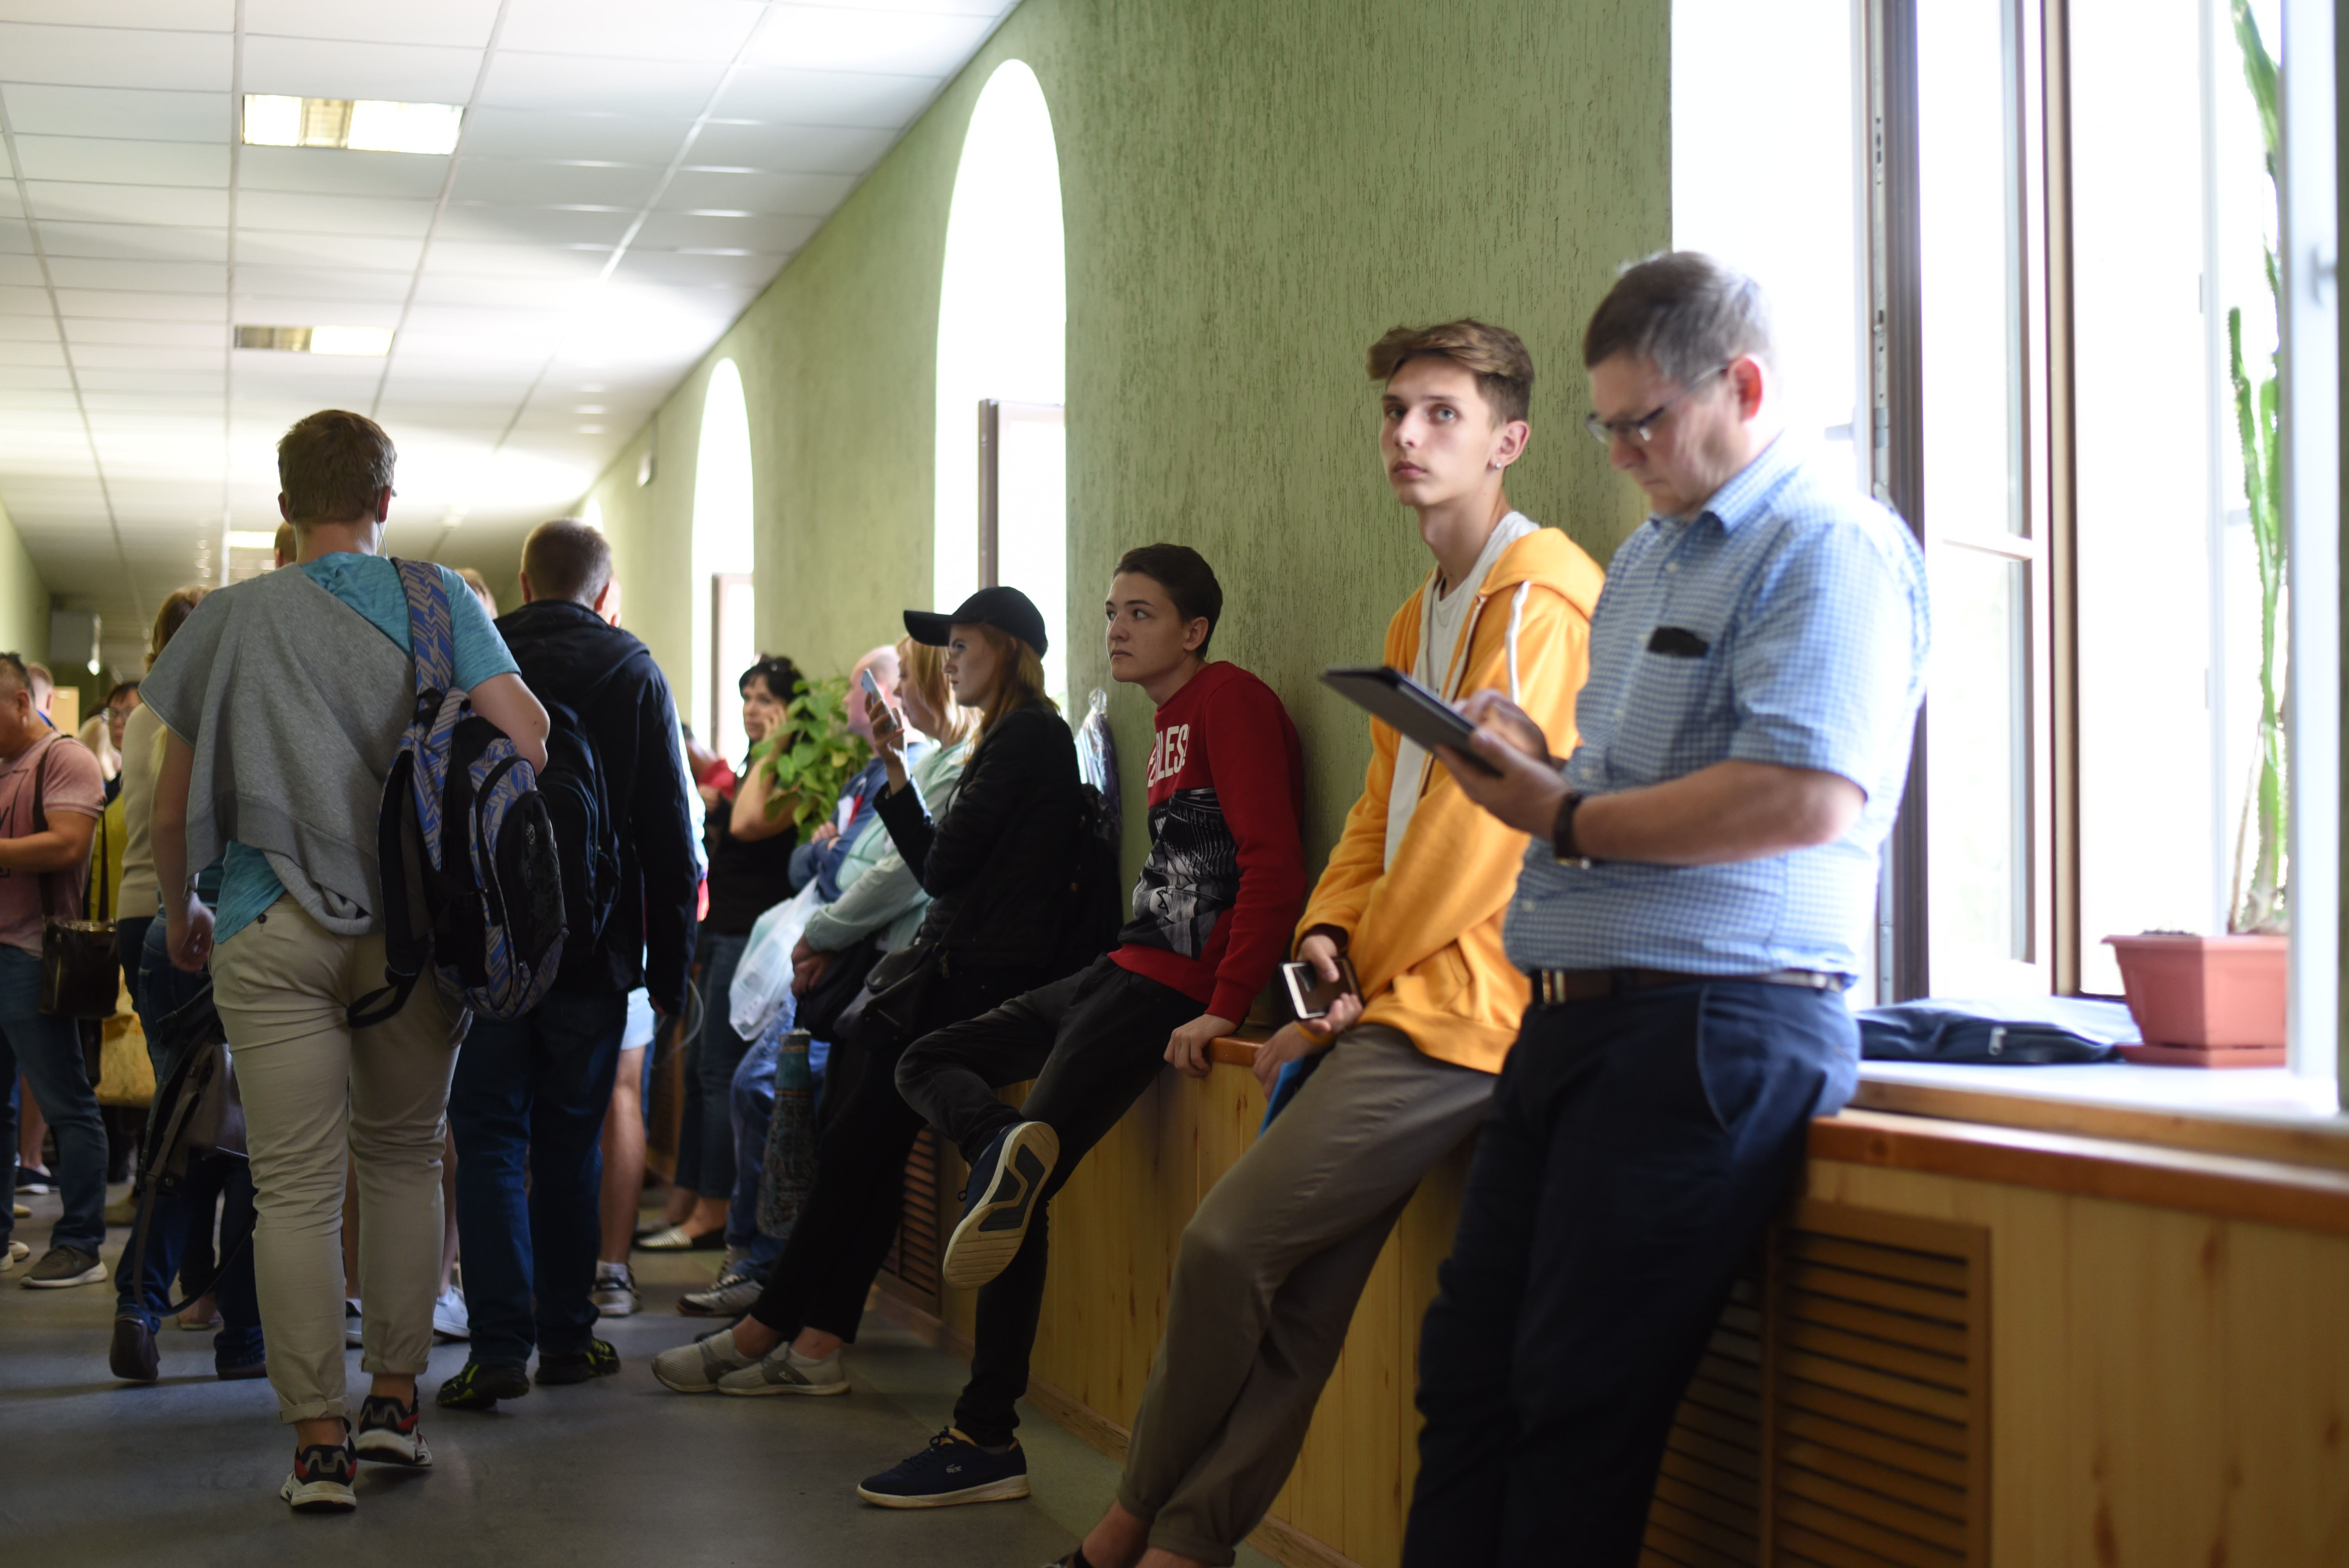students: (1399, 250, 1938, 1558), (1069, 314, 1609, 1560), (147, 406, 557, 1513), (853, 543, 1308, 1507), (654, 584, 1100, 1402), (443, 519, 705, 1410), (720, 613, 964, 1381), (108, 585, 246, 1383), (702, 654, 827, 1309), (0, 651, 121, 1290), (840, 634, 908, 780), (101, 678, 145, 756)
